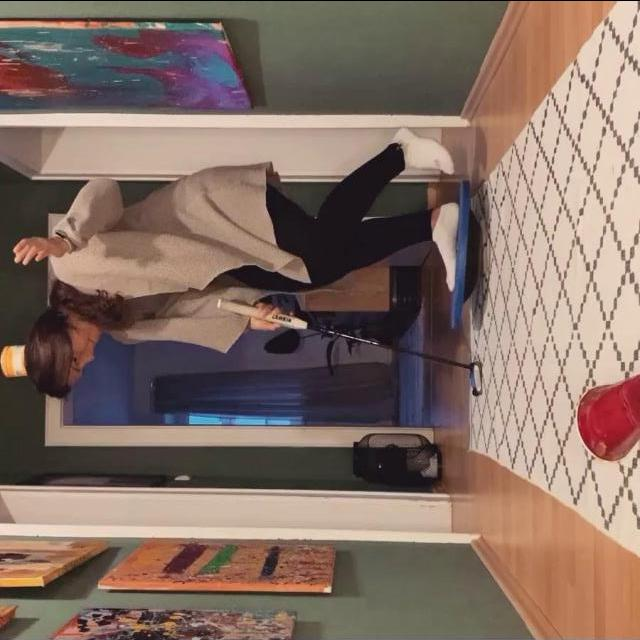golf club-handle: (217, 294, 482, 397)
golf club-head: (470, 362, 475, 395)
